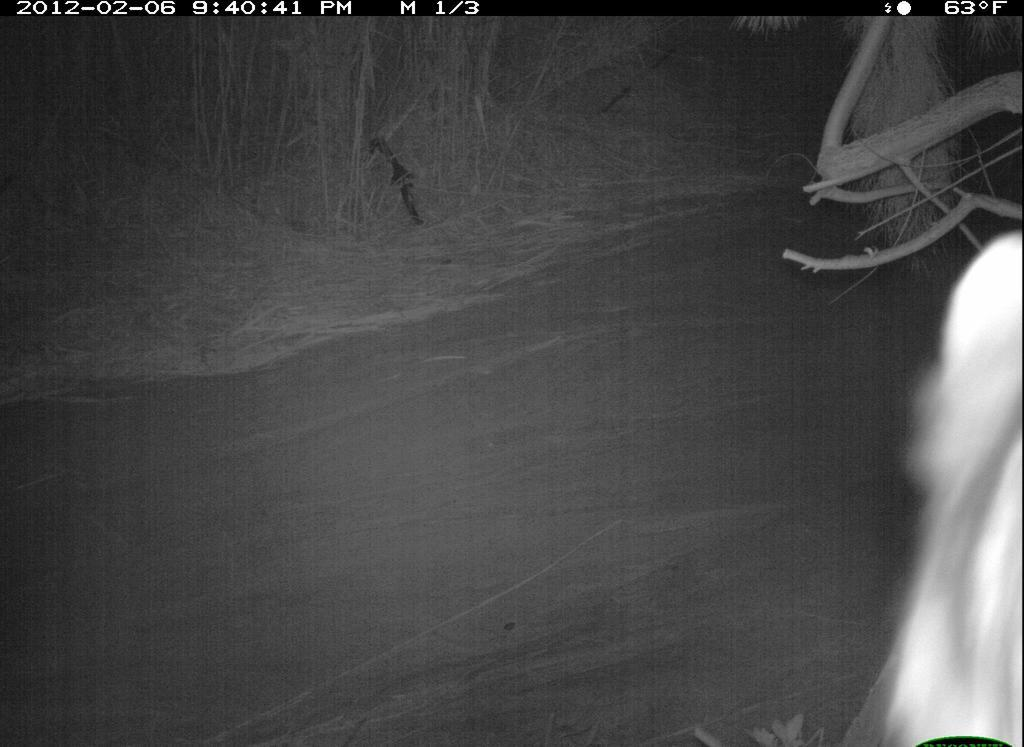raccoon: (870, 225, 1022, 740)
